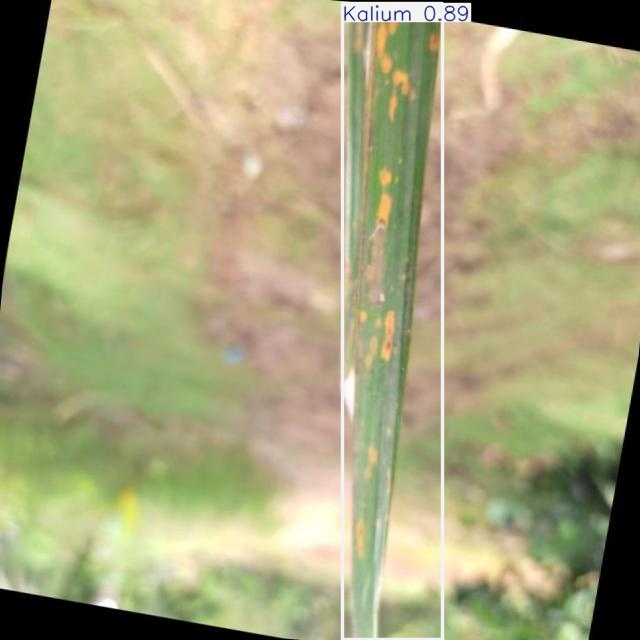Kalium: (342, 3, 442, 640)
